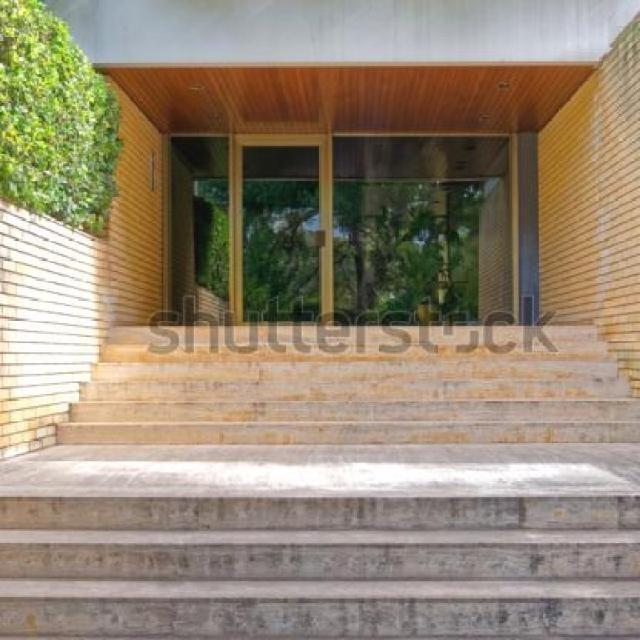stair: (0, 212, 639, 638)
